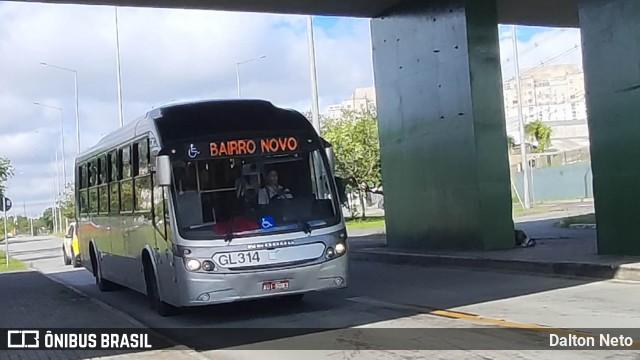BAIRRO NOVO: (205, 132, 302, 160)
